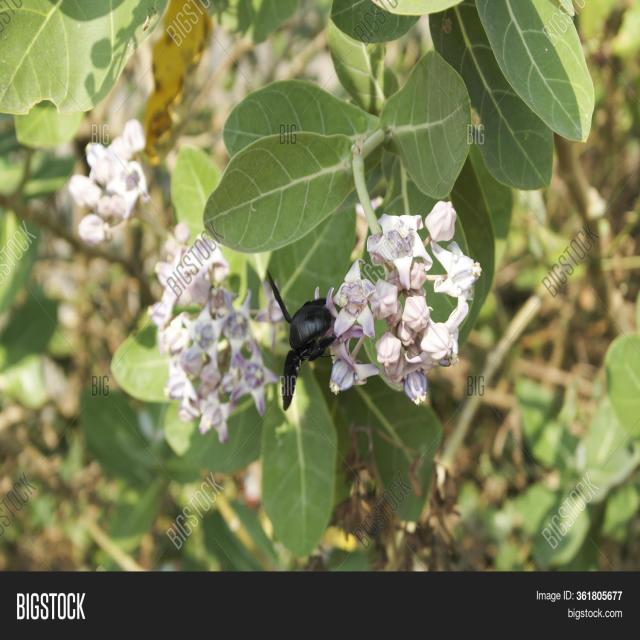Poisonous-Calatropis: (197, 0, 596, 239), (134, 234, 276, 496), (342, 207, 486, 440)
